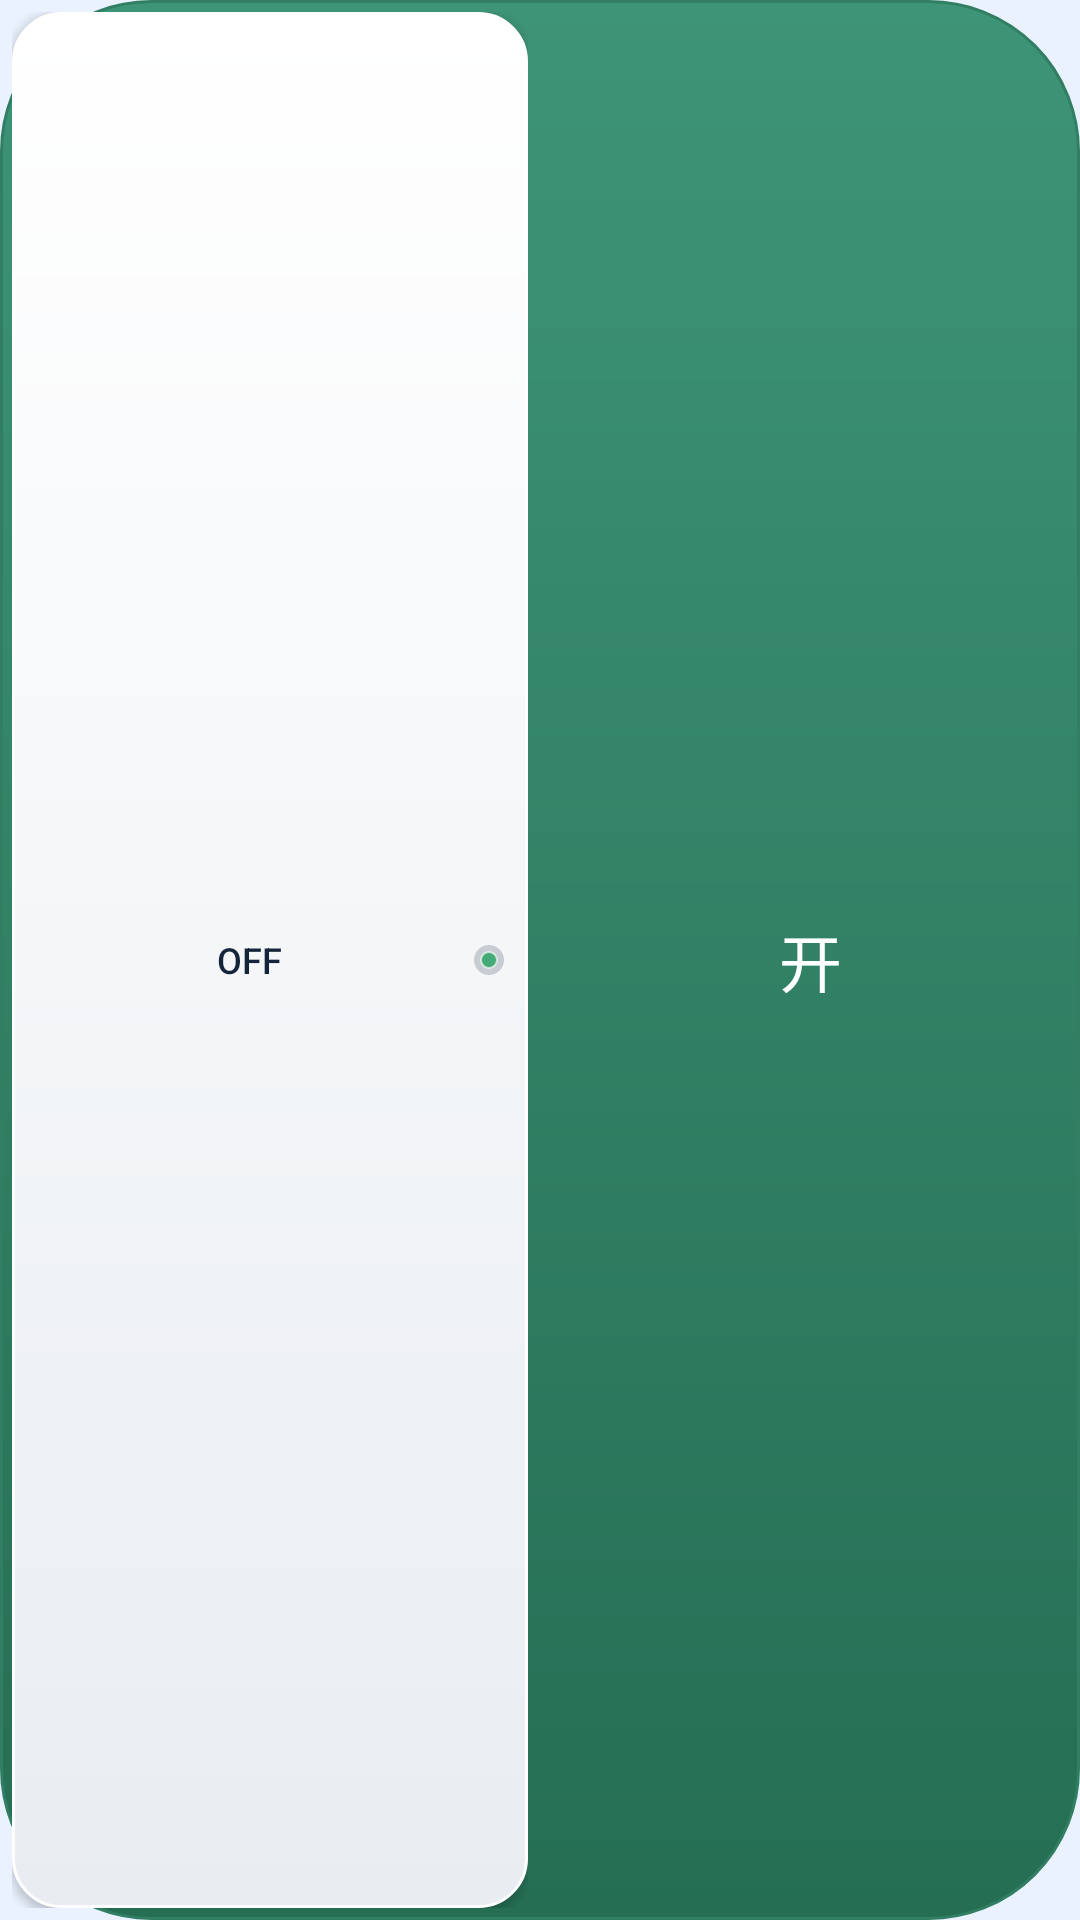

Named icons in this screenshot (1080px x 1920px) and their bounding boxes, bbox=(x1, y1, x2, y2):
widget led idle: bbox=(474, 945, 504, 975)
